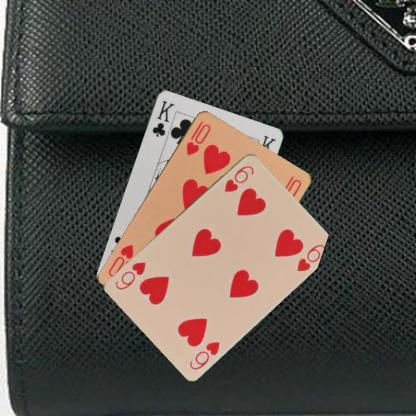10h: (183, 118, 212, 156)
6h: (187, 339, 221, 372), (222, 162, 256, 193)
Kc: (149, 98, 176, 138)
